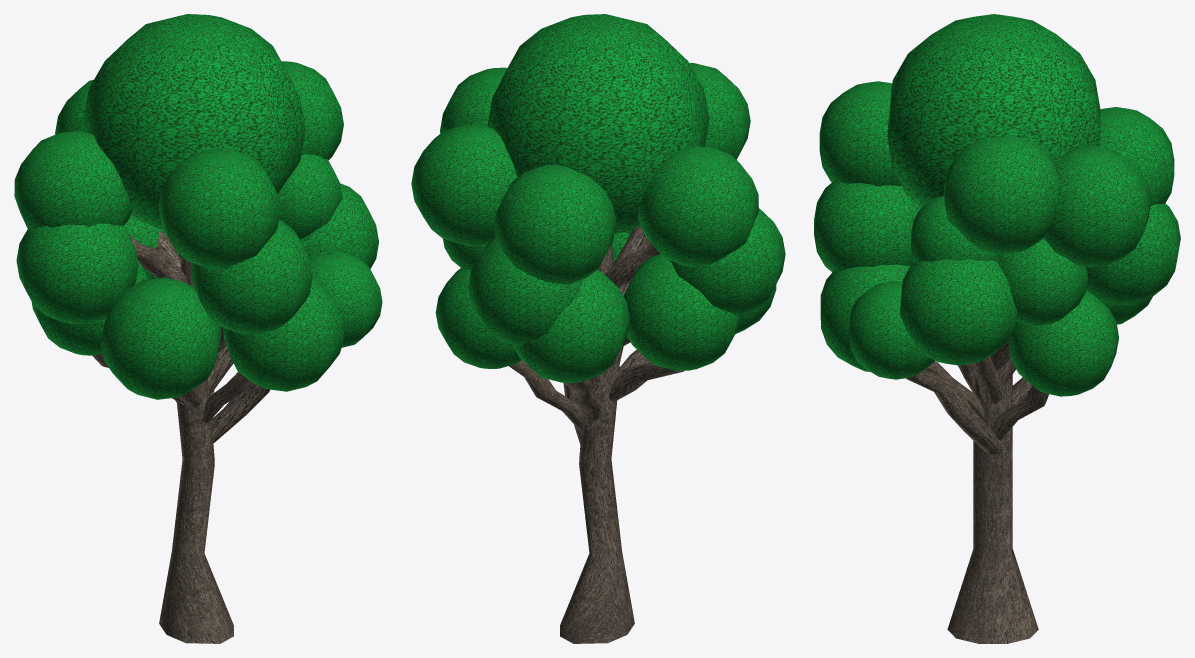
File: Tree_10_22.fbx
The picture shows the model from 3 angles, left to right: view 1: azimuth 30°, elevation 25°; view 2: azimuth 150°, elevation 25°; view 3: azimuth 270°, elevation 25°; orthographic projection.
Parts seen in each view (by area): view 1: pSphere22, pSphere27, polySurface162, pCylinder18, pSphere32, pSphere28, pSphere26, polySurface165, pSphere24, pSphere25, pSphere23, pSphere34 (+7 smaller); view 2: pSphere22, pSphere29, pSphere28, pCylinder18, polySurface164, pSphere33, pSphere31, polySurface145, pSphere32, polySurface160, pSphere27, pSphere34 (+6 smaller); view 3: pSphere22, pCylinder18, pSphere34, pSphere23, polySurface164, pSphere26, polySurface160, pSphere27, pSphere24, polySurface145, polySurface149, pSphere29 (+7 smaller).
Part boxes in pixels (box(x1,y1,x2,y2)): pSphere22: box(83, 14, 305, 230); pSphere27: box(158, 148, 280, 268); polySurface162: box(101, 277, 221, 399); pCylinder18: box(159, 256, 233, 643); pSphere32: box(16, 223, 138, 323); pSphere28: box(14, 131, 131, 228); pSphere26: box(190, 219, 312, 334); polySurface165: box(223, 278, 344, 391); pSphere24: box(310, 252, 382, 347); pSphere25: box(277, 154, 342, 239); pSphere23: box(300, 183, 378, 268); pSphere34: box(281, 61, 343, 160); pSphere22: box(487, 14, 709, 233); pSphere29: box(494, 164, 616, 284); pSphere28: box(638, 146, 758, 266); pCylinder18: box(560, 243, 634, 643); polySurface164: box(411, 124, 517, 245); pSphere33: box(623, 254, 741, 370); pSphere31: box(512, 269, 629, 383); polySurface145: box(468, 237, 582, 346); pSphere32: box(669, 208, 785, 316); polySurface160: box(435, 268, 521, 368); pSphere27: box(689, 63, 750, 159); pSphere34: box(440, 67, 507, 133); pSphere22: box(887, 14, 1100, 207); pCylinder18: box(947, 355, 1038, 643); pSphere34: box(944, 136, 1059, 254); pSphere23: box(900, 259, 1016, 365); polySurface164: box(1043, 145, 1151, 267); pSphere26: box(814, 181, 921, 272); polySurface160: box(1008, 290, 1118, 396); pSphere27: box(819, 81, 901, 186); pSphere24: box(848, 281, 934, 379); polySurface145: box(1086, 203, 1180, 305); polySurface149: box(997, 238, 1087, 325); pSphere29: box(1099, 107, 1174, 206).
Bounding box in the file's own units: 0.0348 × 0.0602 × 0.0331.
